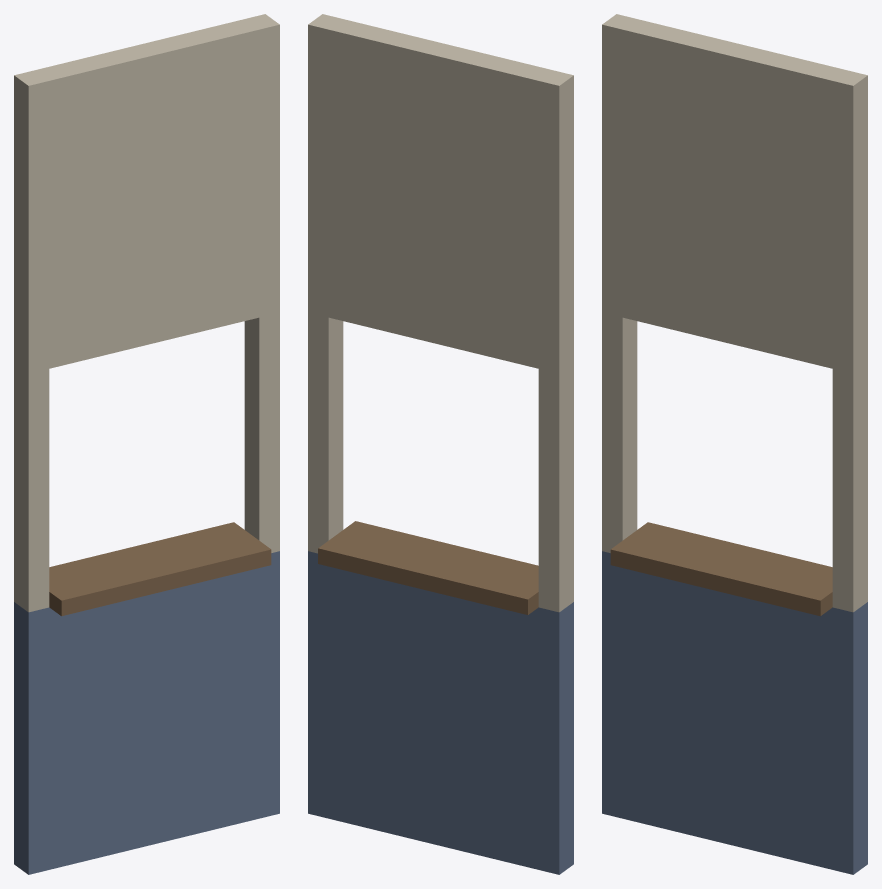
Rendered from Mesh_Wall2Colors_F2.fbx.
The picture shows the model from 3 angles, left to right: view 1: azimuth 30°, elevation 25°; view 2: azimuth 150°, elevation 25°; view 3: azimuth 330°, elevation 25°; orthographic projection.
Visible parts, largest first — view 1: Mesh_Wall2Colors_F2; view 2: Mesh_Wall2Colors_F2; view 3: Mesh_Wall2Colors_F2.
Part boxes in pixels (x1,y1,x2,y2): Mesh_Wall2Colors_F2: [14, 14, 279, 874]; Mesh_Wall2Colors_F2: [308, 14, 573, 874]; Mesh_Wall2Colors_F2: [602, 14, 867, 874].
Size of the model in its own units: 1 by 3 by 0.2574.
